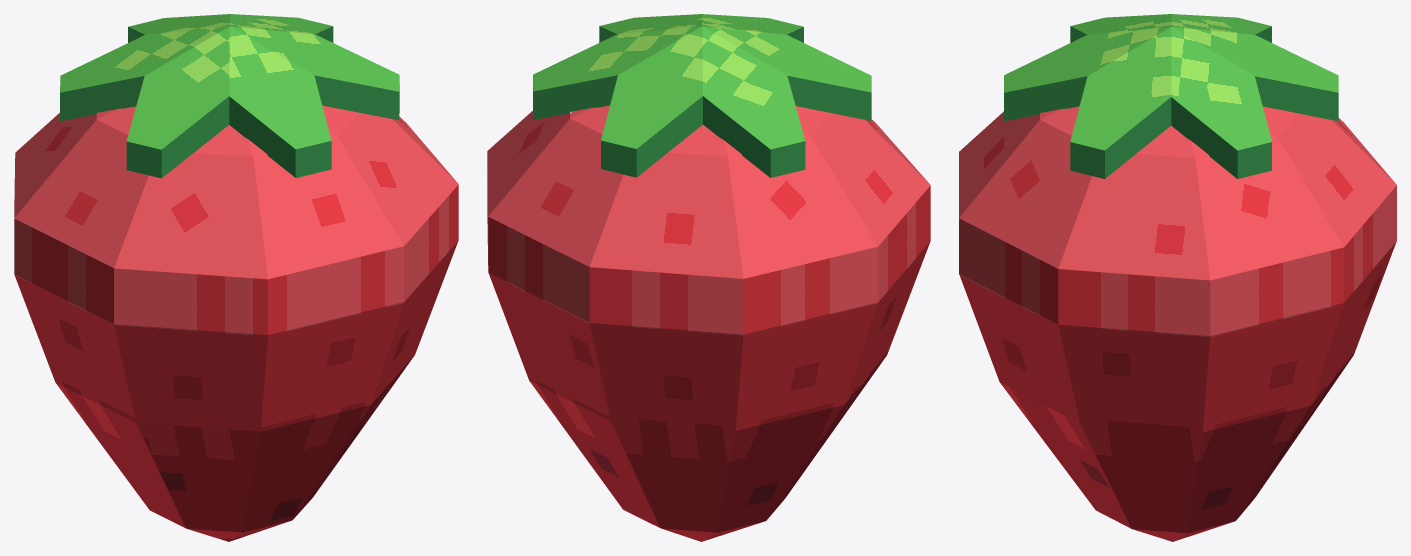
The model's file is strawberry.fbx.
3 renders of one model, left to right at view 1: azimuth 30°, elevation 25°; view 2: azimuth 150°, elevation 25°; view 3: azimuth 270°, elevation 25°, orthographic.
Visible parts, largest first — view 1: strawberry; view 2: strawberry; view 3: strawberry.
Part boxes in pixels (left/top/right/bottom): strawberry: left=14, top=14, right=458, bottom=541; strawberry: left=487, top=14, right=930, bottom=541; strawberry: left=959, top=14, right=1396, bottom=541.
Size of the model in its own units: 71.03 by 89.38 by 68.87.
1 material, 1 textured.
